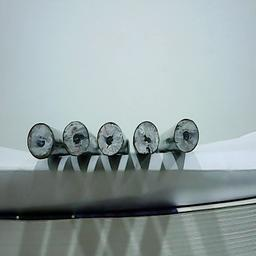pen: (27, 123, 55, 159), (173, 117, 201, 153), (132, 120, 160, 156), (96, 120, 124, 156), (61, 119, 89, 155)
